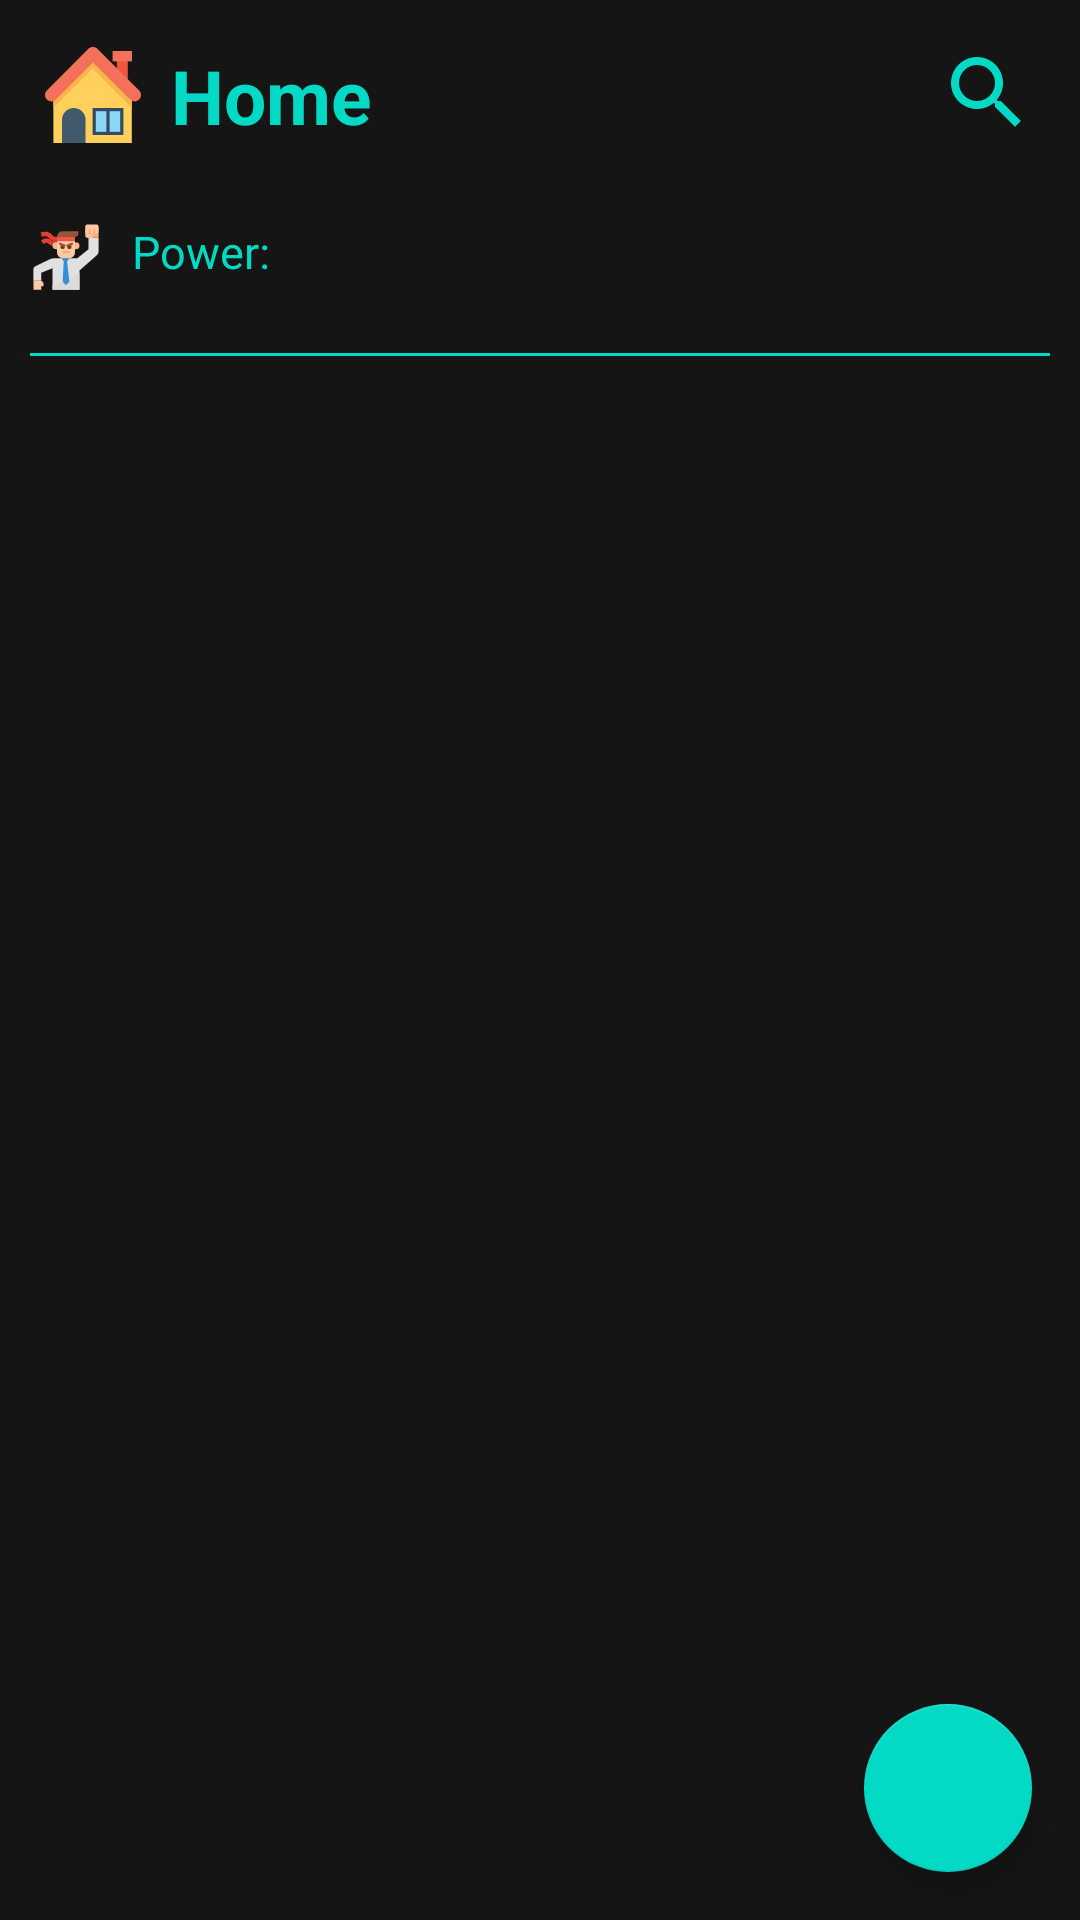

Named icons in this screenshot (1080px x 1920px) and their bounding boxes, Rect(x1, y1, x2, y2):
search: Rect(951, 57, 1021, 127)
